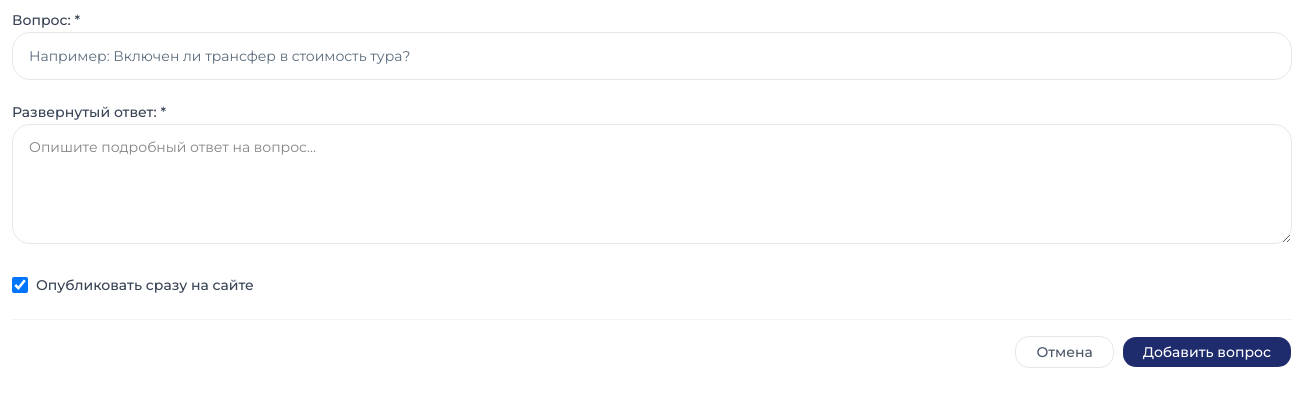
Test case: FaqForm › валидация › не даёт отправить форму только с вопросом
Type "Вопрос?" into the field with placeholder "Например: Включен ли трансфер в стоимость тура?" at coordinates (652, 56), box [12,32,1292,80]
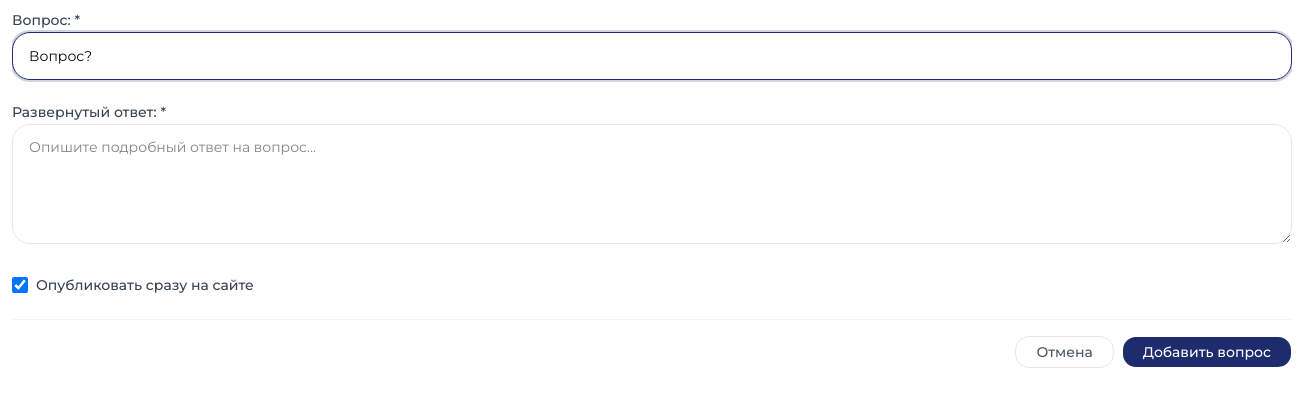
Click the button "Добавить вопрос" at coordinates (1207, 352), box [1122,336,1292,368]
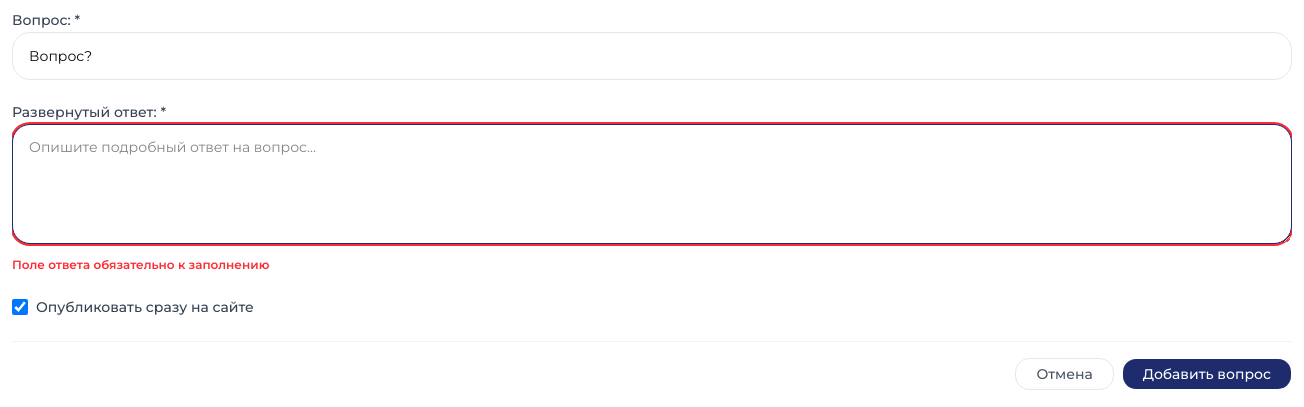
Expected: the text "Поле ответа обязательно к заполнению" is shown, [12,257,269,272]
